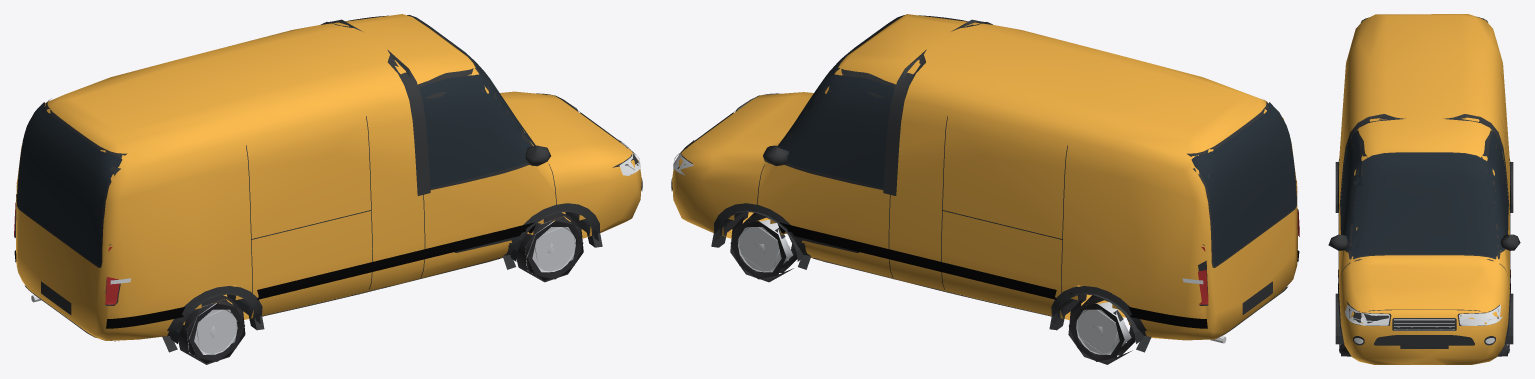
File: pro_btp_far.glb
3 renders of one model, left to right at view 1: azimuth 30°, elevation 25°; view 2: azimuth 150°, elevation 25°; view 3: azimuth 270°, elevation 25°, orthographic. The views are drawn at different scales.
Visible parts, largest first — view 1: Body, RearGlass, Glass-1, ProStripe-1, WheelRR, WheelFR, Bpillar-1, ArchTrim-1.001, ArchTrim-1, RgFrame, WinFrame-1, ArchLiner.003 (+1 smaller); view 2: Body, RearGlass, Glass1, ProStripe1, WheelRL, WheelFL, Bpillar1, ArchTrim1.001, ArchTrim1, RgFrame, WinFrame1, ArchLiner.002 (+1 smaller); view 3: Body, Windshield, Glass1, Glass-1, Intake, HeadReflector, Grille, WsFrame, HeadBezel, Bpillar-1, Bpillar1, ArchLiner (+8 smaller).
Boxes of the visible parts, x1,y1,x2,y2 form: Body: (16, 14, 641, 340); RearGlass: (17, 102, 122, 265); Glass-1: (419, 74, 535, 188); ProStripe-1: (106, 222, 535, 328); WheelRR: (178, 295, 245, 364); WheelFR: (516, 212, 583, 282); Bpillar-1: (387, 49, 430, 195); ArchTrim-1.001: (162, 286, 264, 352); ArchTrim-1: (502, 203, 602, 269); RgFrame: (16, 98, 127, 267); WinFrame-1: (418, 68, 532, 189); ArchLiner.003: (170, 293, 260, 343); Body: (672, 14, 1297, 340); RearGlass: (1191, 102, 1296, 265); Glass1: (778, 74, 894, 187); ProStripe1: (778, 222, 1207, 328); WheelRL: (1068, 295, 1135, 364); WheelFL: (730, 212, 797, 282); Bpillar1: (883, 49, 926, 195); ArchTrim1.001: (1049, 286, 1151, 352); ArchTrim1: (711, 203, 811, 269); RgFrame: (1187, 101, 1296, 267); WinFrame1: (784, 68, 895, 189); ArchLiner.002: (1053, 293, 1143, 343); Body: (1338, 14, 1510, 364); Windshield: (1351, 153, 1497, 257); Glass1: (1476, 132, 1508, 250); Glass-1: (1340, 132, 1363, 250); Intake: (1374, 335, 1474, 345); HeadReflector: (1345, 305, 1502, 325); Grille: (1392, 318, 1456, 330); WsFrame: (1348, 152, 1500, 259); HeadBezel: (1346, 301, 1499, 325); Bpillar-1: (1339, 114, 1405, 209); Bpillar1: (1443, 114, 1509, 209); ArchLiner: (1505, 293, 1513, 344).
Bounding box in the file's own units: 5.62 × 2.29 × 2.15.
